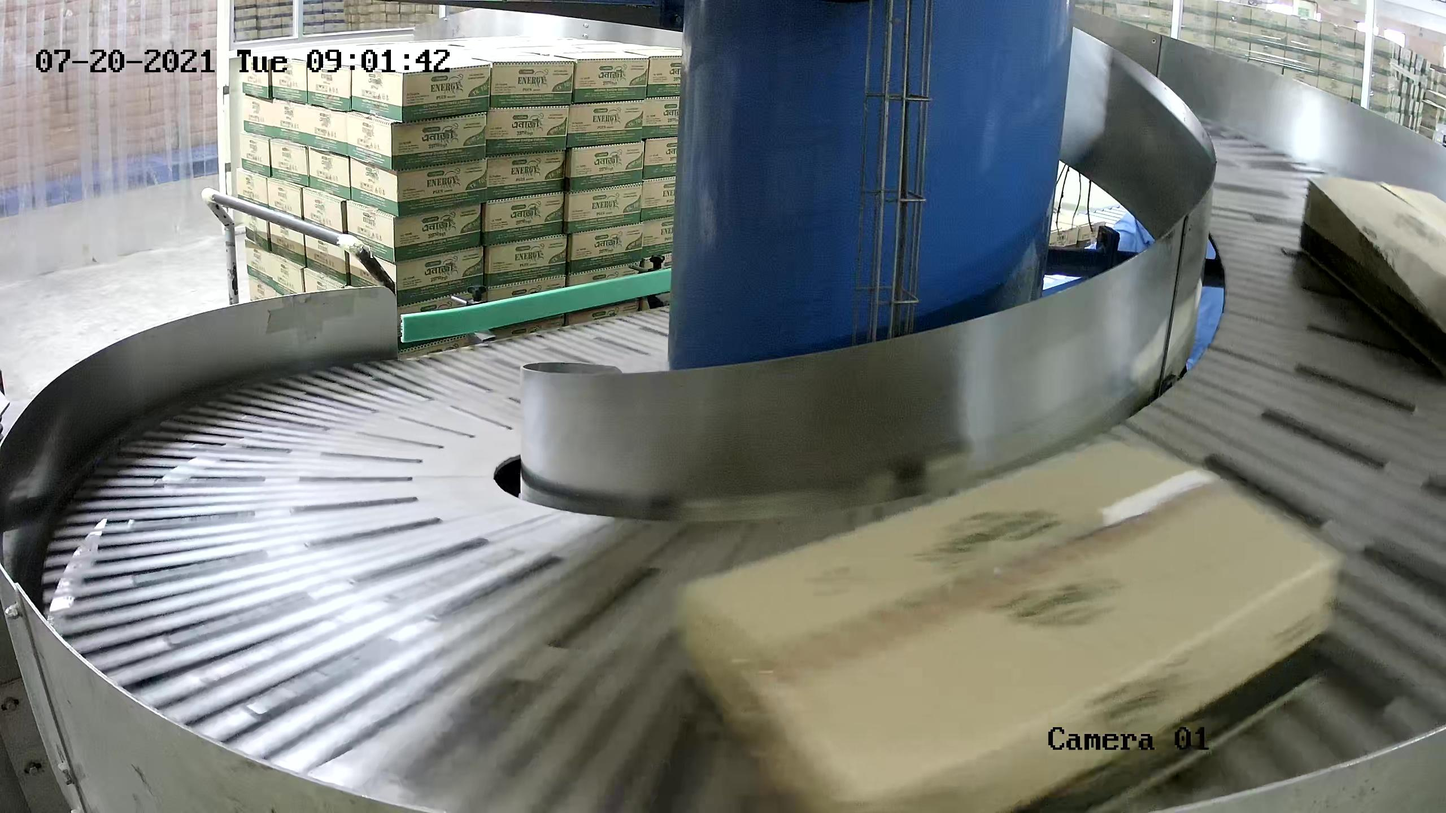Box: (674, 436, 1345, 813), (1299, 173, 1446, 380)
